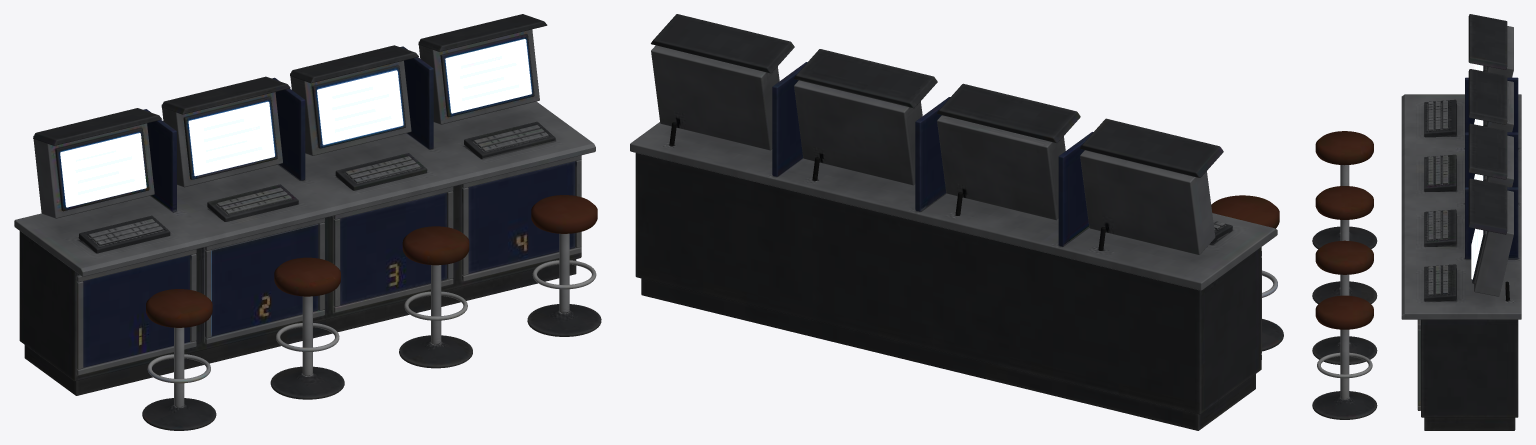
Rendered from terminal_row.glb.
The picture shows the model from 3 angles, left to right: view 1: azimuth 30°, elevation 25°; view 2: azimuth 150°, elevation 25°; view 3: azimuth 270°, elevation 25°; orthographic projection. The views are drawn at different scales.
Parts seen in each view (by area): view 1: terminal_row; view 2: terminal_row; view 3: terminal_row.
Boxes of the visible parts, <box> form: terminal_row: <box>14,14,601,430</box>; terminal_row: <box>630,14,1283,430</box>; terminal_row: <box>1312,14,1521,430</box>.
Bounding box in the file's own units: 3.2 × 1.4 × 1.29.
2 materials, 2 textured.
